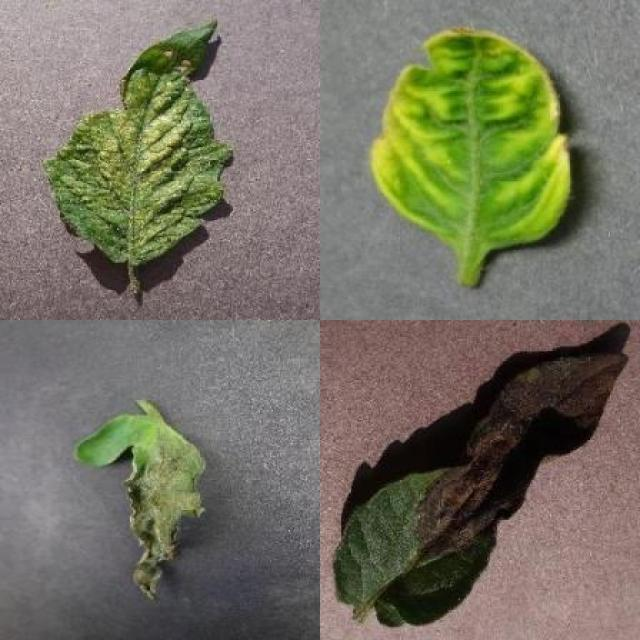Late Blight: (332, 351, 628, 626), (74, 414, 209, 602)
Spider Mites: (44, 20, 232, 266)
Yellow Leaf Curl Virus: (369, 25, 574, 248)
